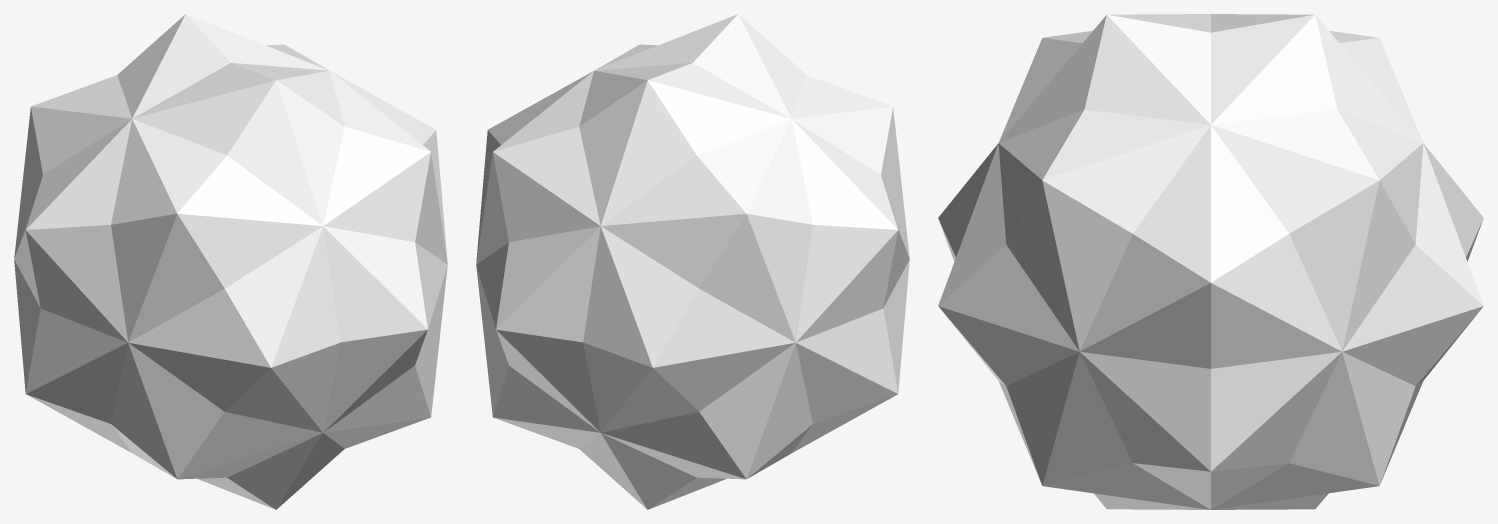
Rendered from small-icosacronic-hexecontahedron.gltf.
3 renders of one model, left to right at view 1: azimuth 30°, elevation 25°; view 2: azimuth 150°, elevation 25°; view 3: azimuth 270°, elevation 25°, orthographic. The views are drawn at different scales.
Visible parts, largest first — view 1: Small Icosacronic Hexecontahedron (Dual of 5/2.6.3.6), WD71,; view 2: Small Icosacronic Hexecontahedron (Dual of 5/2.6.3.6), WD71,; view 3: Small Icosacronic Hexecontahedron (Dual of 5/2.6.3.6), WD71,.
Boxes of the visible parts, x1,y1,x2,y2 form: Small Icosacronic Hexecontahedron (Dual of 5/2.6.3.6), WD71,: [14, 14, 447, 509]; Small Icosacronic Hexecontahedron (Dual of 5/2.6.3.6), WD71,: [476, 14, 909, 509]; Small Icosacronic Hexecontahedron (Dual of 5/2.6.3.6), WD71,: [938, 14, 1483, 509].
Bounding box in the file's own units: 29.12 × 29.12 × 29.12.
1 material, 1 textured.
